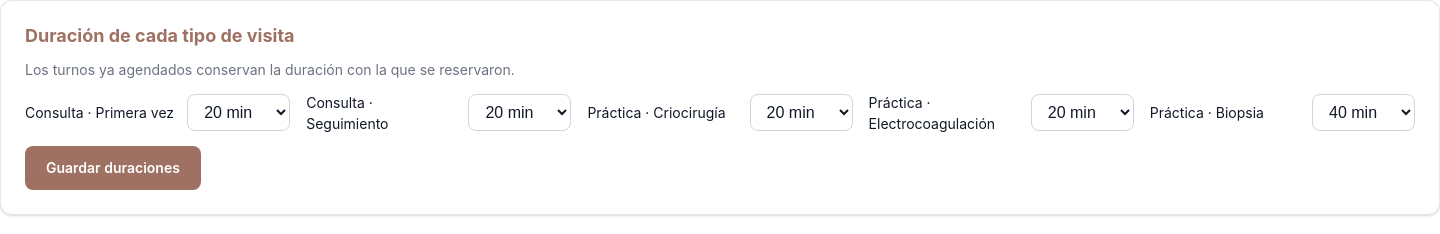
Test case: DurationsEditor › saves the edited durations with a success toast
This screenshot has width=1440, height=234.
Select "30 min" in the dropdown labelled "Consulta · Primera vez" at (239, 113), box 187,94 -> 290,131
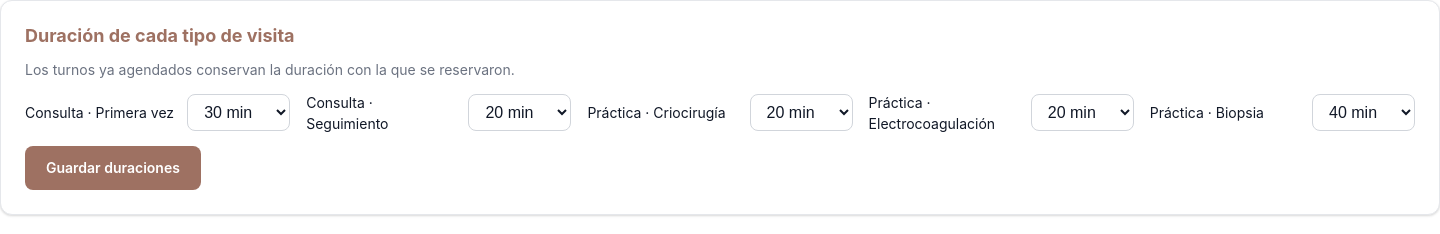
Click the button "Guardar duraciones" at (113, 168), box 25,146 -> 201,190
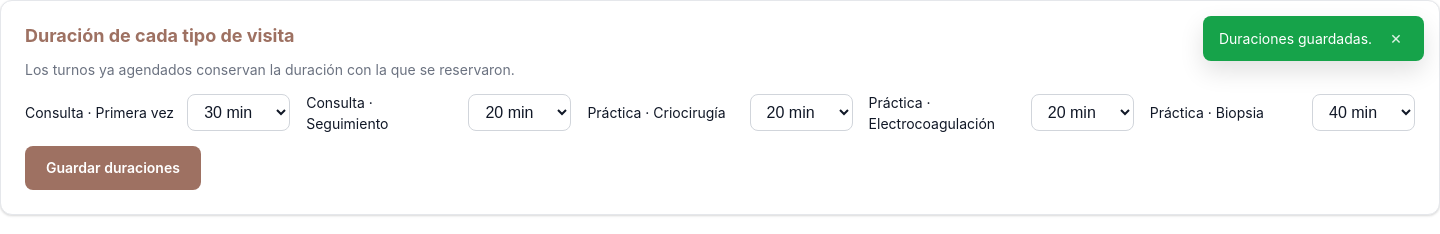
expect the message shows "Duraciones guardadas.": met, box 1219,30 -> 1372,47
